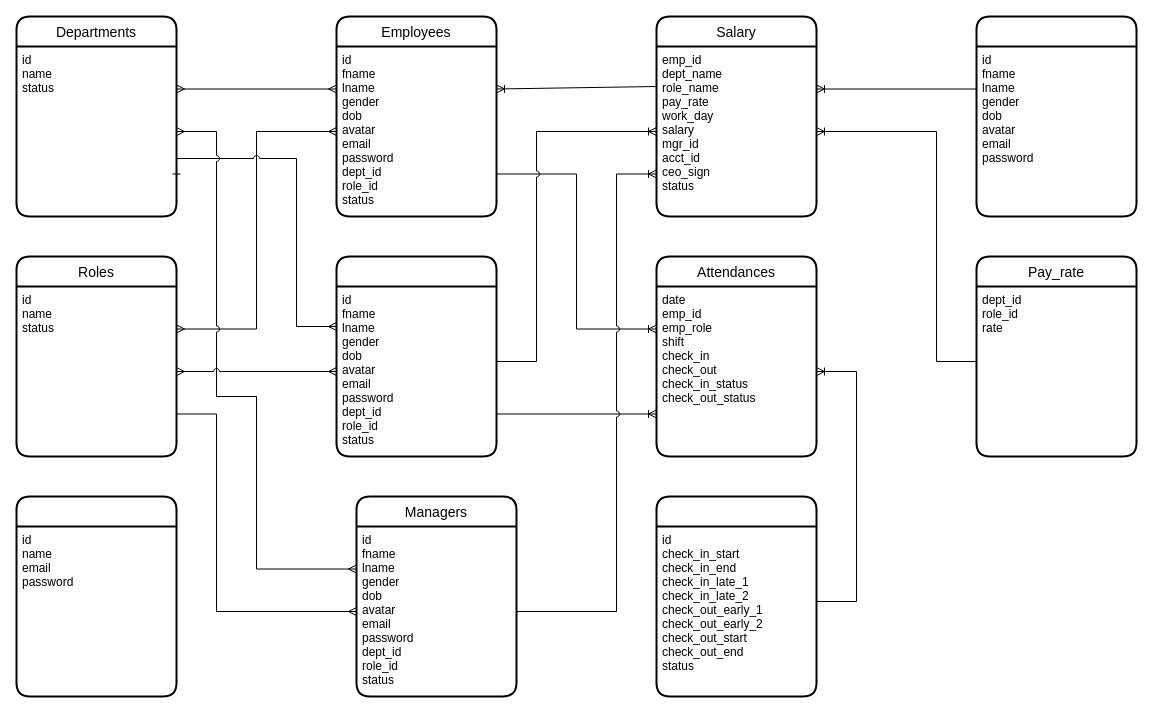
The diagram is 1153 pixels wide and 713 high, and some of its shapes have lost their labels. The shapes that lost their labels are listed below. From the top down, each one's box as (x1, y1, x2, y2) in pixels, then its label:
(975, 15, 1137, 217): CEO
(335, 255, 497, 457): Accountants
(15, 495, 177, 697): Admin
(655, 495, 817, 697): Attendance_shift_times
